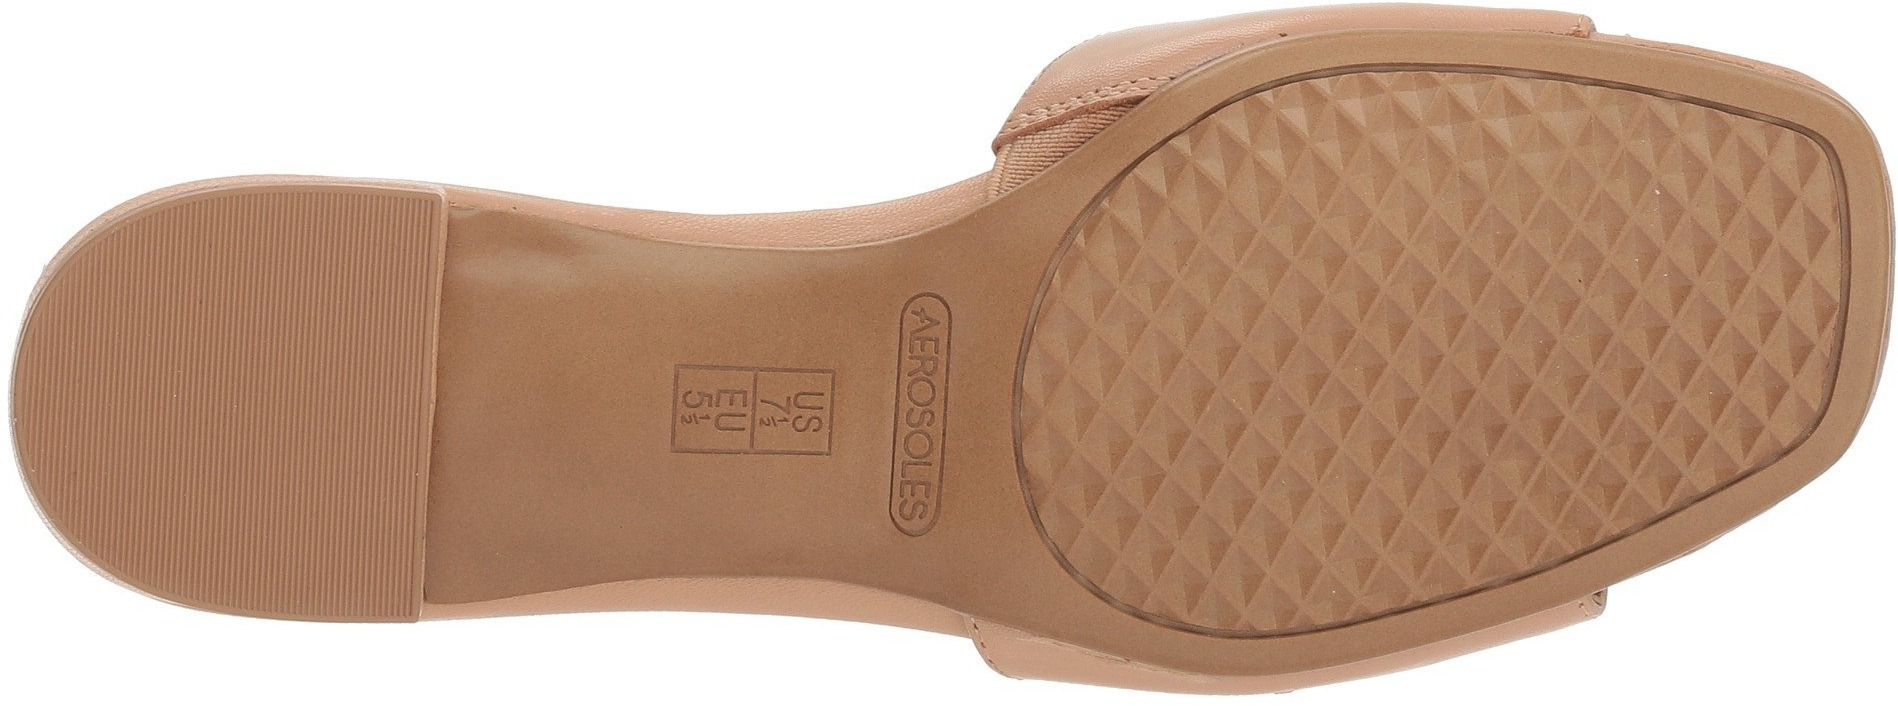other: (240, 380, 420, 586), (47, 314, 237, 497), (241, 203, 429, 374), (696, 463, 819, 569)
quad: (1564, 156, 1834, 412), (1047, 280, 1294, 532), (1301, 338, 1560, 561), (1307, 103, 1546, 329), (1167, 136, 1302, 272)
text: (678, 350, 773, 446), (775, 377, 842, 446), (899, 308, 959, 373), (898, 386, 951, 440), (903, 442, 945, 503)
